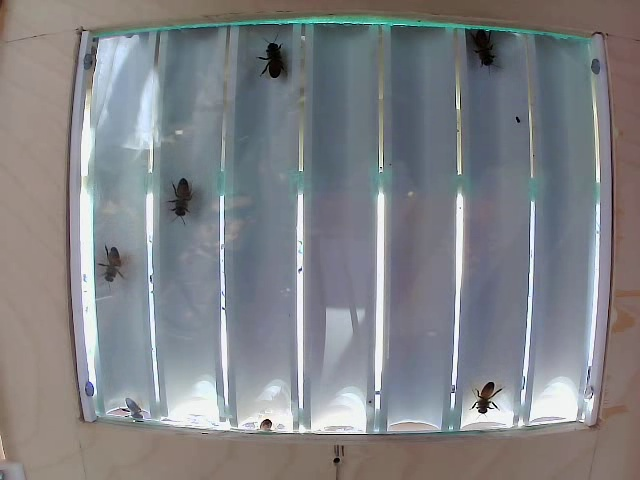bee: (163, 166, 203, 220), (99, 233, 129, 293), (260, 42, 297, 87)
